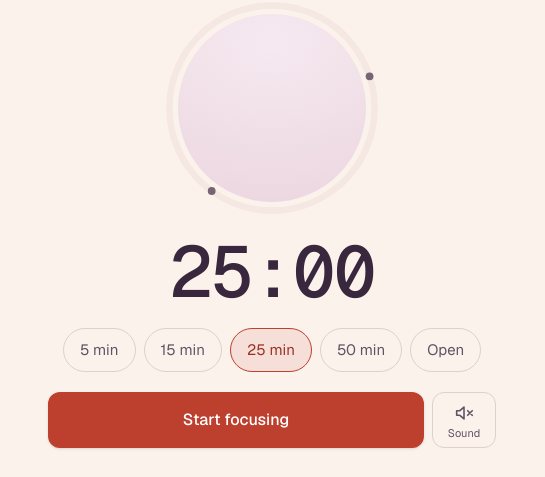
FocusTimer › closes the session at two hours, the usual way
Click the button "Start focusing".
click(236, 420)  # box 48,392 -> 424,448
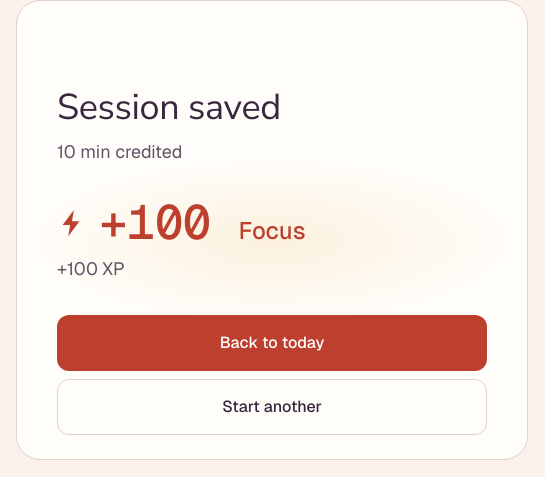
Check: the heading "Session saved" is shown, box 57,83 -> 281,132
